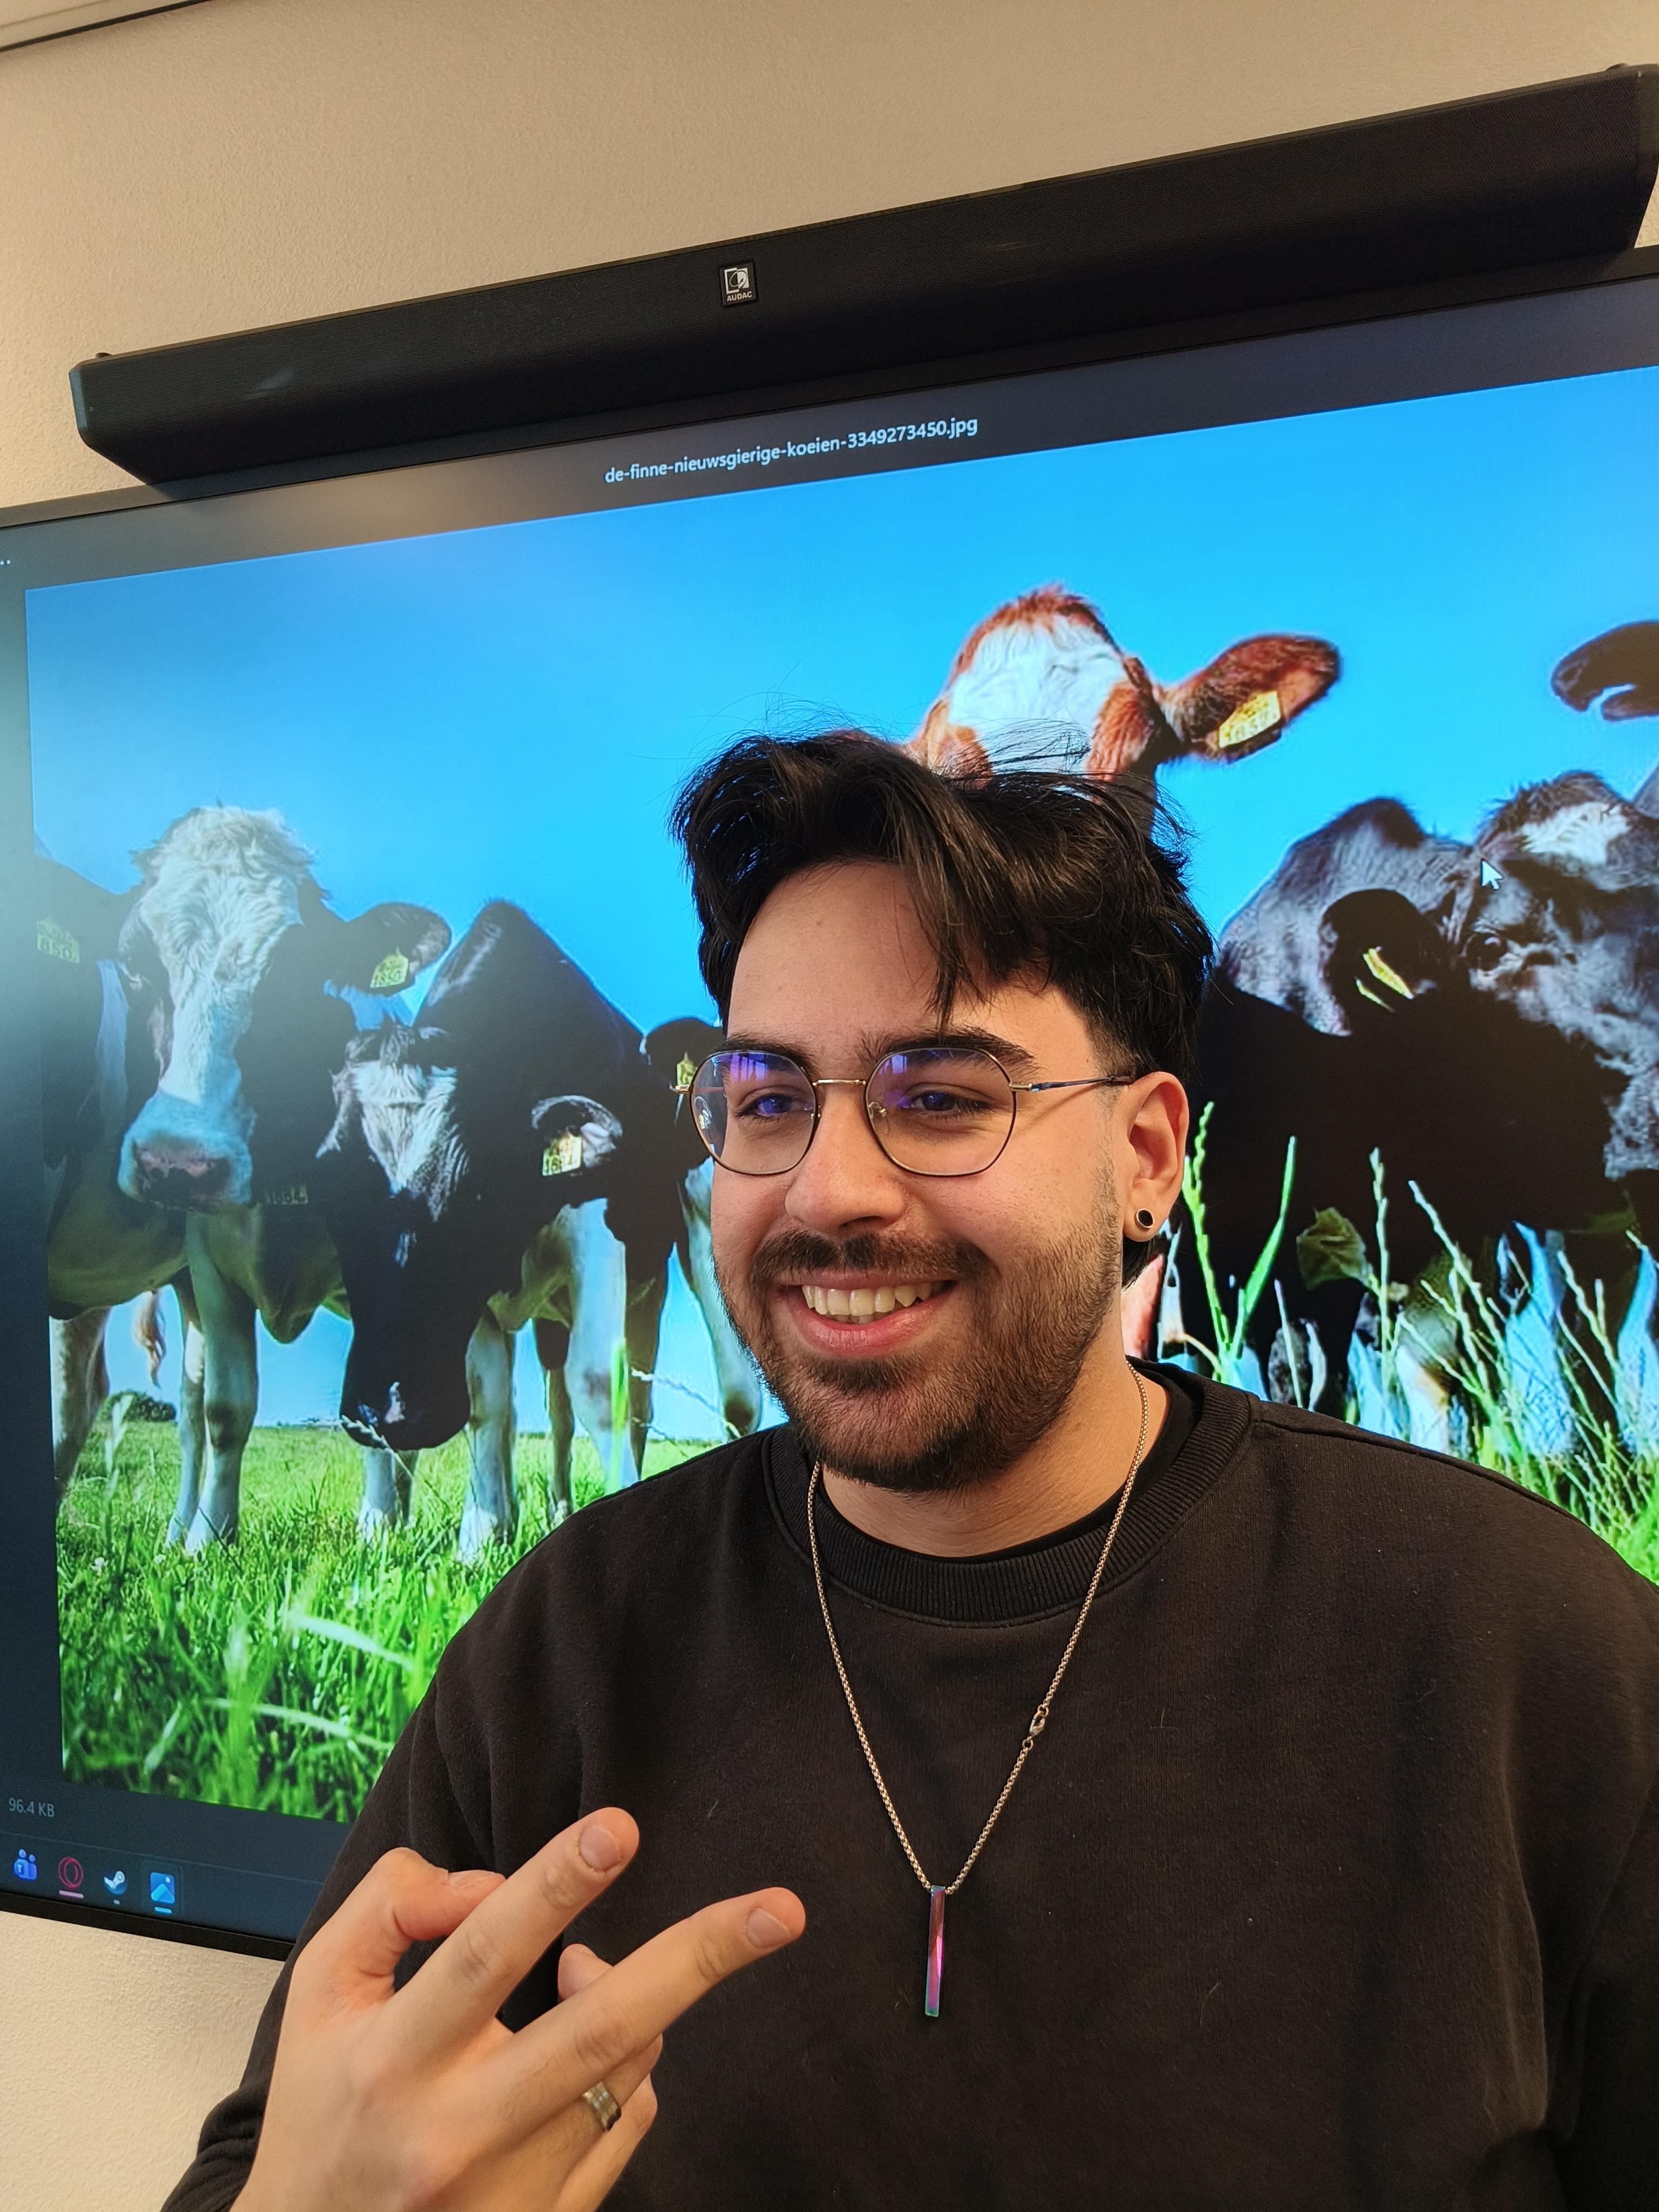face: (661, 719, 1250, 1481)
